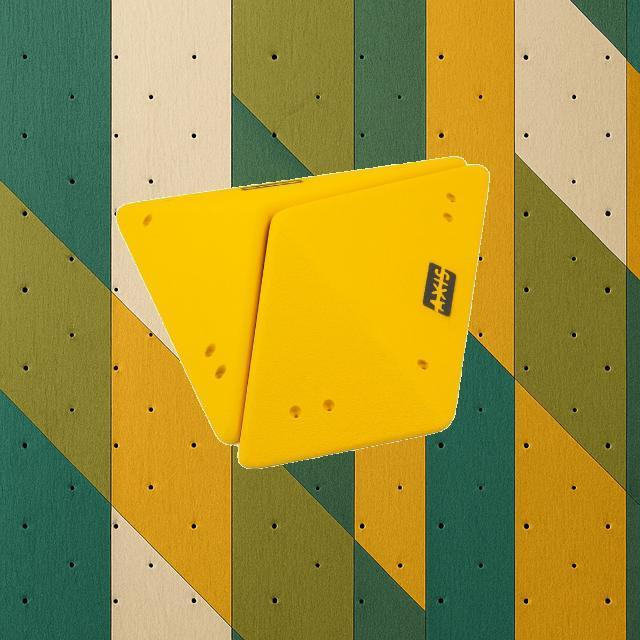Volume: (113, 154, 465, 446), (236, 164, 489, 468)
